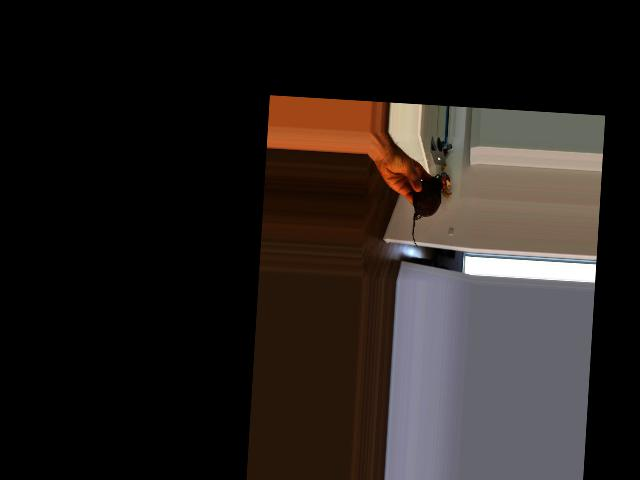beet: (409, 173, 443, 248)
